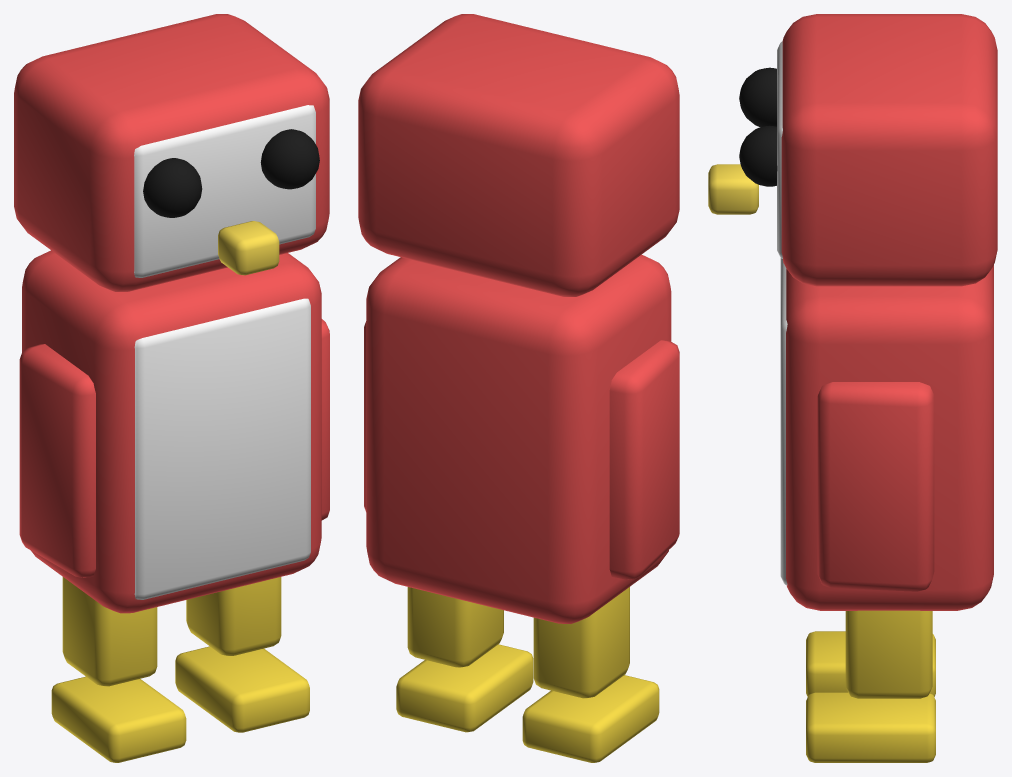
Rendered from Penguin_Red.glb.
The picture shows the model from 3 angles, left to right: view 1: azimuth 30°, elevation 25°; view 2: azimuth 150°, elevation 25°; view 3: azimuth 270°, elevation 25°; orthographic projection.
Parts seen in each view (by area): view 1: Penguin_Red; view 2: Penguin_Red; view 3: Penguin_Red.
Part boxes in pixels (x1,y1,x2,y2): Penguin_Red: (14,14,329,762); Penguin_Red: (358,14,679,762); Penguin_Red: (708,14,997,762).
Bounding box in the file's own units: 0.8797 × 2 × 0.8.
